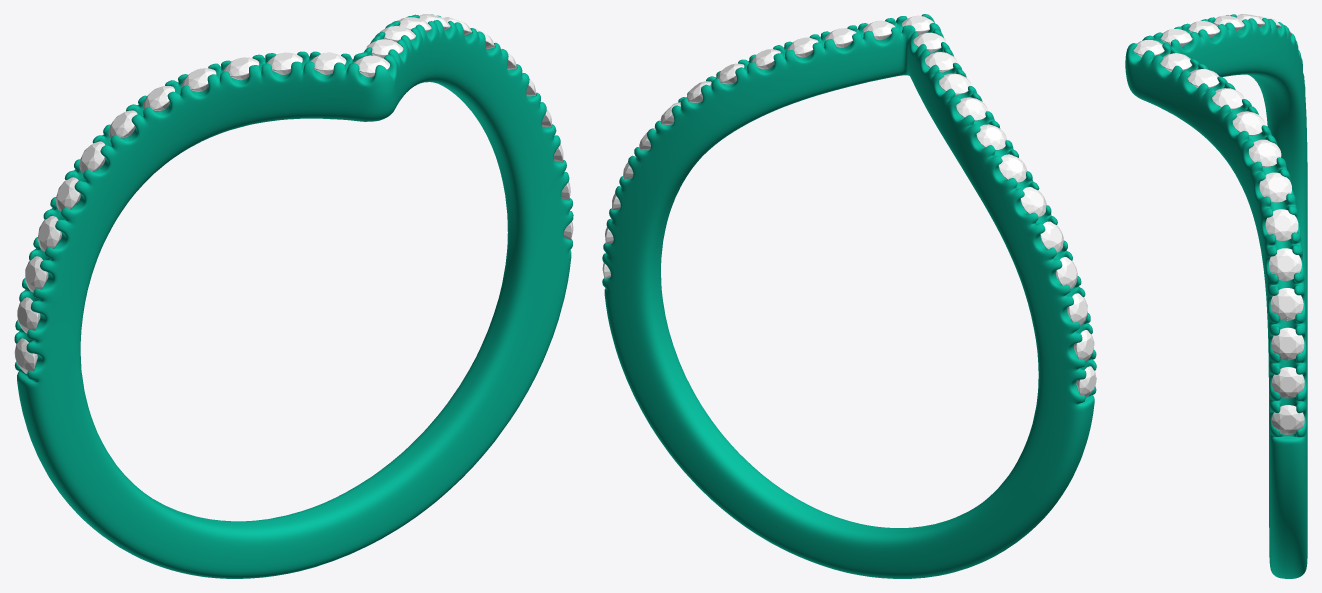
Rendered from BE2D2320LC_RENDER.glb.
3 renders of one model, left to right at view 1: azimuth 30°, elevation 25°; view 2: azimuth 150°, elevation 25°; view 3: azimuth 270°, elevation 25°, orthographic. The views are drawn at different scales.
Visible parts, largest first — view 1: Metal03; view 2: Metal03; view 3: Metal03, Diamond_Round_Gem_BD.003, Diamond_Round_Gem_BD.002, Diamond_Round_Gem_BD.004, Diamond_Round_Gem_BD.005, Diamond_Round_Gem_BD.001, Diamond_Round_Gem_BD.006, Diamond_Round_Gem_BD, Diamond_Round_Gem_BD.007, Diamond_Round_Gem_BD.008, Diamond_Round_Gem_BD.009, Diamond_Round_Gem_BD.010 (+5 smaller).
Part boxes in pixels (x1=…): Metal03: x1=14, y1=14, x2=573, y2=578; Metal03: x1=602, y1=14, x2=1096, y2=578; Metal03: x1=1125, y1=14, x2=1307, y2=578; Diamond_Round_Gem_BD.003: x1=1270, y1=288, x2=1303, y2=320; Diamond_Round_Gem_BD.002: x1=1271, y1=327, x2=1304, y2=360; Diamond_Round_Gem_BD.004: x1=1269, y1=248, x2=1301, y2=280; Diamond_Round_Gem_BD.005: x1=1265, y1=209, x2=1298, y2=240; Diamond_Round_Gem_BD.001: x1=1272, y1=367, x2=1304, y2=398; Diamond_Round_Gem_BD.006: x1=1259, y1=172, x2=1291, y2=202; Diamond_Round_Gem_BD: x1=1272, y1=405, x2=1304, y2=434; Diamond_Round_Gem_BD.007: x1=1248, y1=139, x2=1281, y2=166; Diamond_Round_Gem_BD.008: x1=1232, y1=111, x2=1265, y2=135; Diamond_Round_Gem_BD.009: x1=1212, y1=88, x2=1244, y2=109; Diamond_Round_Gem_BD.010: x1=1187, y1=68, x2=1219, y2=88.
Size of the model in its own units: 20.72 by 20.41 by 6.64.
